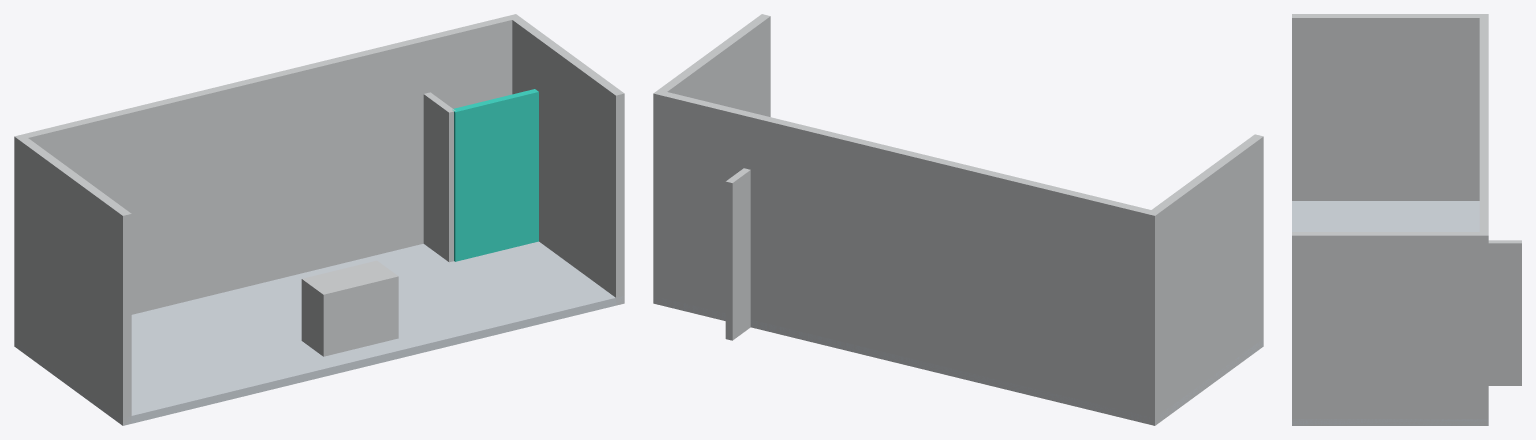
3 renders of one model, left to right at view 1: azimuth 30°, elevation 25°; view 2: azimuth 150°, elevation 25°; view 3: azimuth 270°, elevation 25°, orthographic. The views are drawn at different scales.
Visible parts, largest first — view 1: Exhibition Booth Concept; view 2: Exhibition Booth Concept; view 3: Exhibition Booth Concept.
Part boxes in pixels (x1,y1,x2,y2): Exhibition Booth Concept: (14,14,624,425); Exhibition Booth Concept: (653,14,1263,425); Exhibition Booth Concept: (1292,14,1521,425).
Size of the model in its own units: 8 by 3.2 by 3.51.
